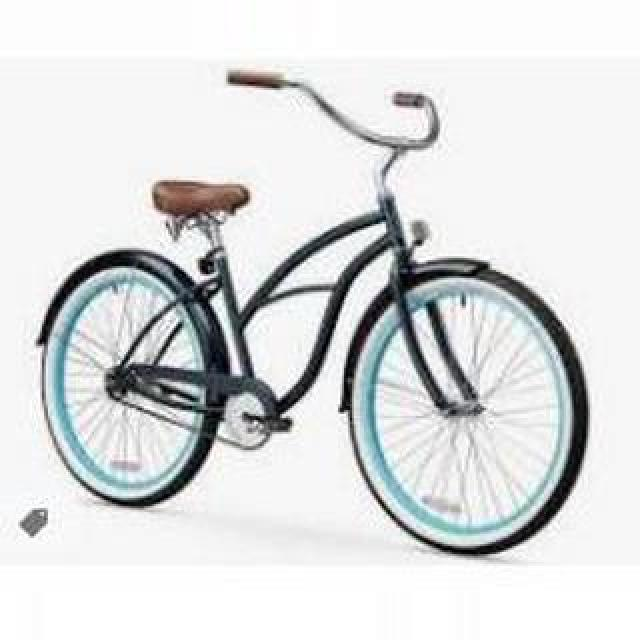Person: (16, 70, 592, 554)
